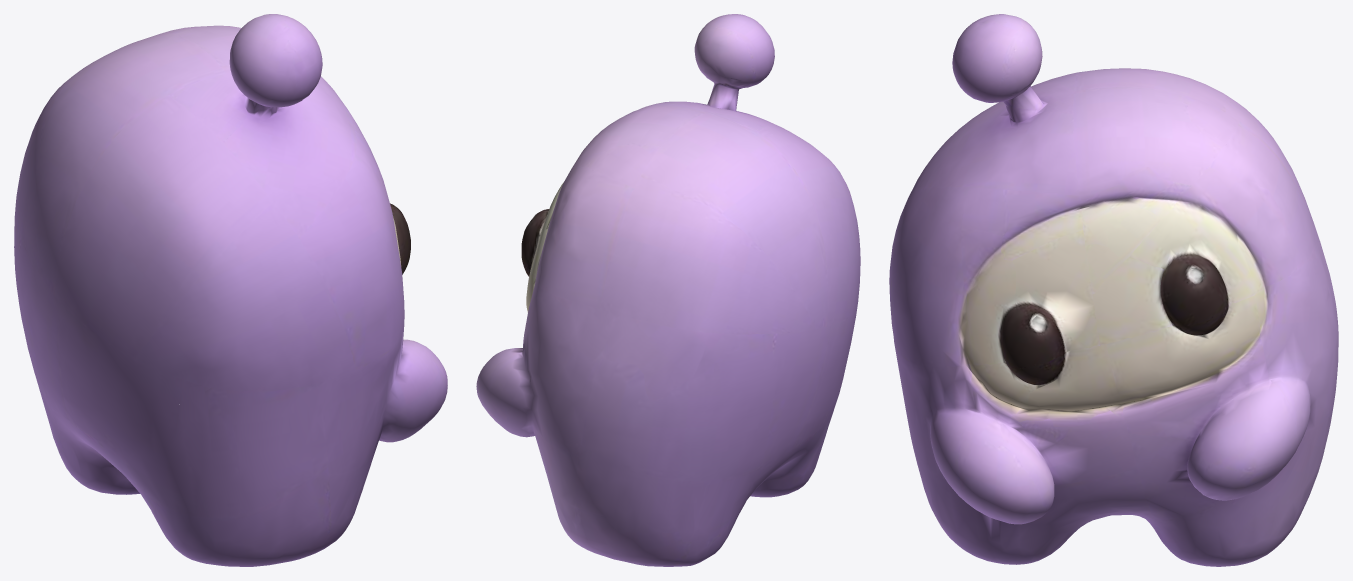
The model's file is mochi-idle.glb.
3 views of the same model, side by side, from view 1: azimuth 30°, elevation 25°; view 2: azimuth 150°, elevation 25°; view 3: azimuth 270°, elevation 25° (orthographic). The views are drawn at different scales.
Visible parts, largest first — view 1: tripo_node_01f6e804-7a5c-4cf9-b4ab-86d5da33b61f; view 2: tripo_node_01f6e804-7a5c-4cf9-b4ab-86d5da33b61f; view 3: tripo_node_01f6e804-7a5c-4cf9-b4ab-86d5da33b61f.
Part boxes in pixels (bbox=[...]): tripo_node_01f6e804-7a5c-4cf9-b4ab-86d5da33b61f: bbox=[14, 14, 447, 566]; tripo_node_01f6e804-7a5c-4cf9-b4ab-86d5da33b61f: bbox=[476, 14, 860, 566]; tripo_node_01f6e804-7a5c-4cf9-b4ab-86d5da33b61f: bbox=[889, 14, 1338, 566].
Bounding box in the file's own units: 0.6429 × 0.9795 × 0.7594.
1 material, 1 textured.
